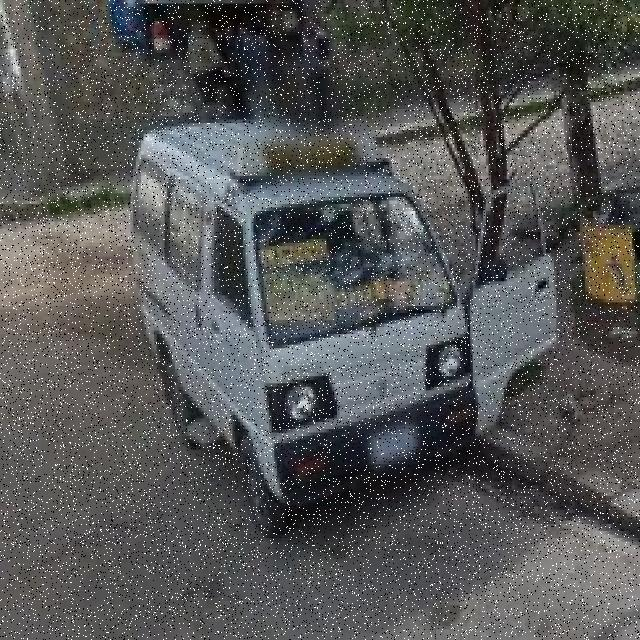cars: (145, 116, 520, 529)
